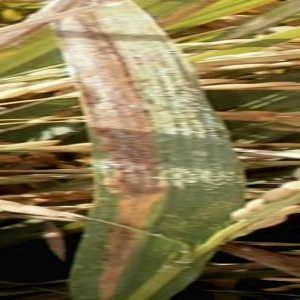Leaf_Blast: (89, 36, 209, 300)
